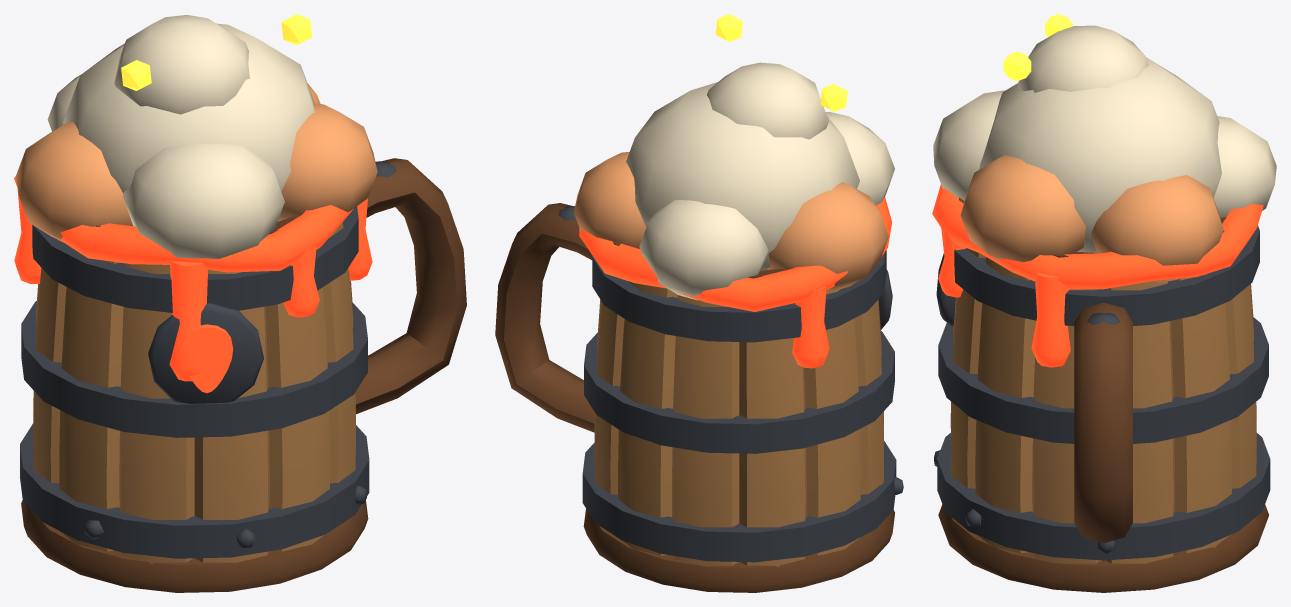
Rendered from item_berserker_brew.glb.
3 renders of one model, left to right at view 1: azimuth 30°, elevation 25°; view 2: azimuth 150°, elevation 25°; view 3: azimuth 270°, elevation 25°, orthographic. The views are drawn at different scales.
Parts seen in each view (by area): view 1: BerserkerBrew; view 2: BerserkerBrew; view 3: BerserkerBrew.
Boxes of the visible parts, left/top/right/bottom form: BerserkerBrew: left=14, top=14, right=466, bottom=592; BerserkerBrew: left=495, top=14, right=903, bottom=592; BerserkerBrew: left=932, top=14, right=1276, bottom=592.
Bounding box in the file's own units: 0.2564 × 0.3 × 0.1877.
